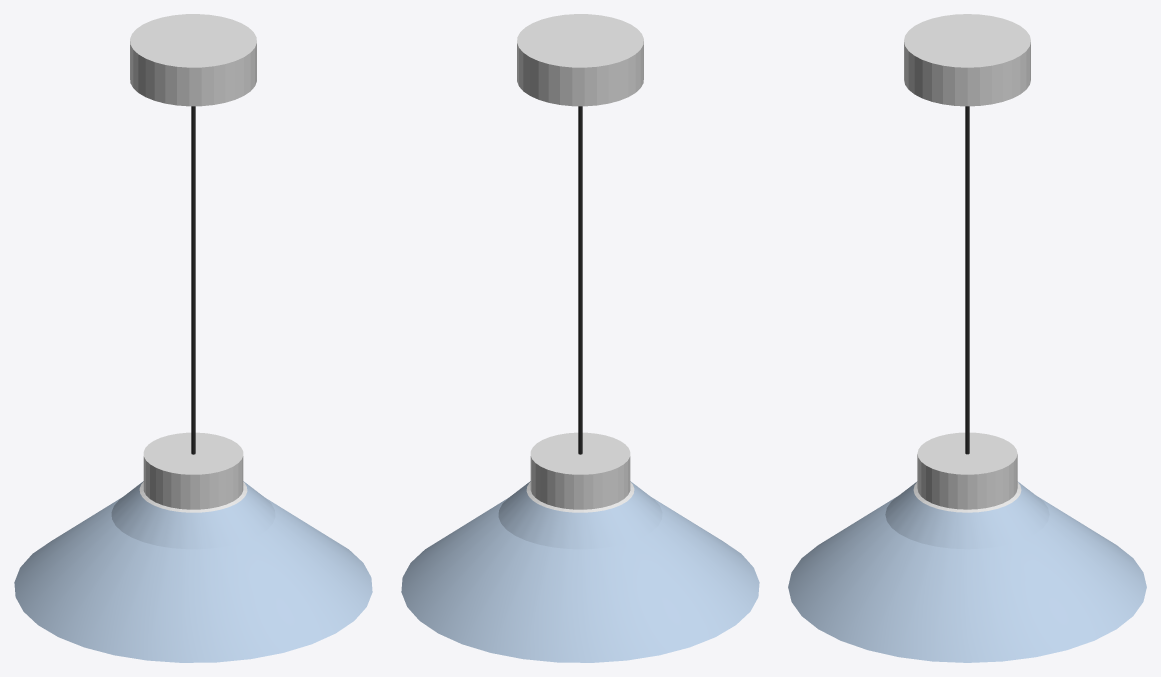
The model's file is hanging_light.glb.
3 views of the same model, side by side, from view 1: azimuth 30°, elevation 25°; view 2: azimuth 150°, elevation 25°; view 3: azimuth 270°, elevation 25° (orthographic).
Parts seen in each view (by area): view 1: Cylinder.002, Cylinder.004, Cylinder, Cylinder.005; view 2: Cylinder.002, Cylinder.004, Cylinder, Cylinder.005; view 3: Cylinder.002, Cylinder.004, Cylinder, Cylinder.005.
Boxes of the visible parts, left/top/right/bottom form: Cylinder.002: left=14, top=481, right=372, bottom=662; Cylinder.004: left=130, top=14, right=256, bottom=106; Cylinder: left=139, top=432, right=247, bottom=512; Cylinder.005: left=191, top=106, right=195, bottom=454; Cylinder.002: left=401, top=481, right=759, bottom=662; Cylinder.004: left=517, top=14, right=643, bottom=106; Cylinder: left=526, top=432, right=634, bottom=512; Cylinder.005: left=578, top=106, right=582, bottom=454; Cylinder.002: left=788, top=481, right=1146, bottom=662; Cylinder.004: left=904, top=14, right=1030, bottom=106; Cylinder: left=913, top=432, right=1021, bottom=512; Cylinder.005: left=965, top=106, right=969, bottom=454.
Bounding box in the file's own units: 5.07 × 8.58 × 5.07.
